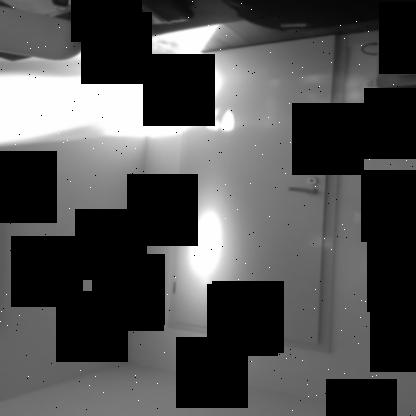Porte: (163, 32, 348, 358)
